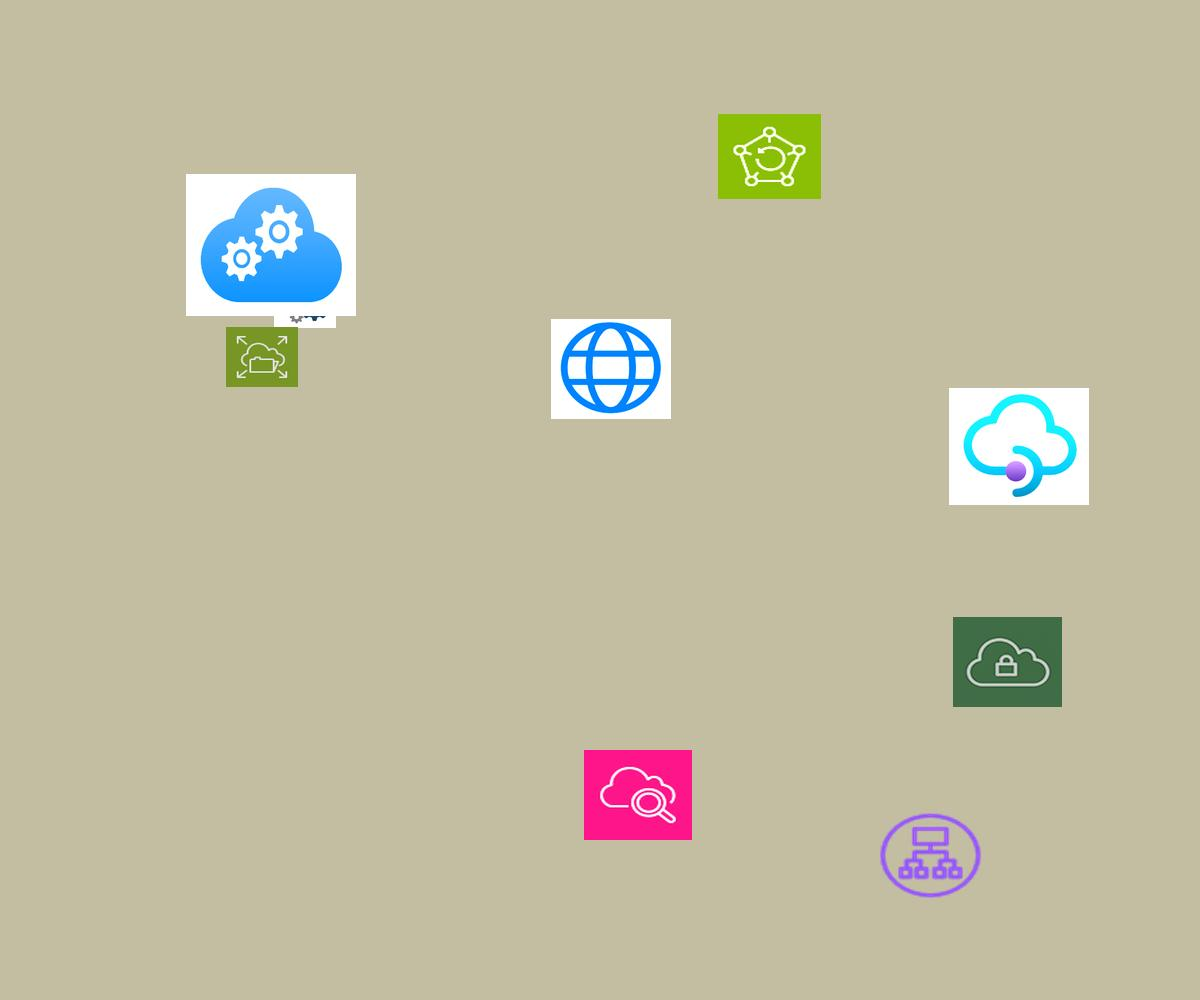AWS-Backup: (718, 114, 821, 199)
AWS-CloudWatch: (584, 750, 692, 840)
AWS-EFS: (226, 327, 298, 387)
AWS-Private_vpc: (953, 617, 1062, 707)
AWS-Res_Elastic-Load-Balancing_Application-Load-Balancer: (876, 810, 985, 901)
Azure_api: (274, 276, 336, 328)
Azure_api_gateway: (949, 388, 1089, 505)
Azure_cloud_services: (186, 174, 356, 316)
Azure_http: (551, 319, 671, 419)
